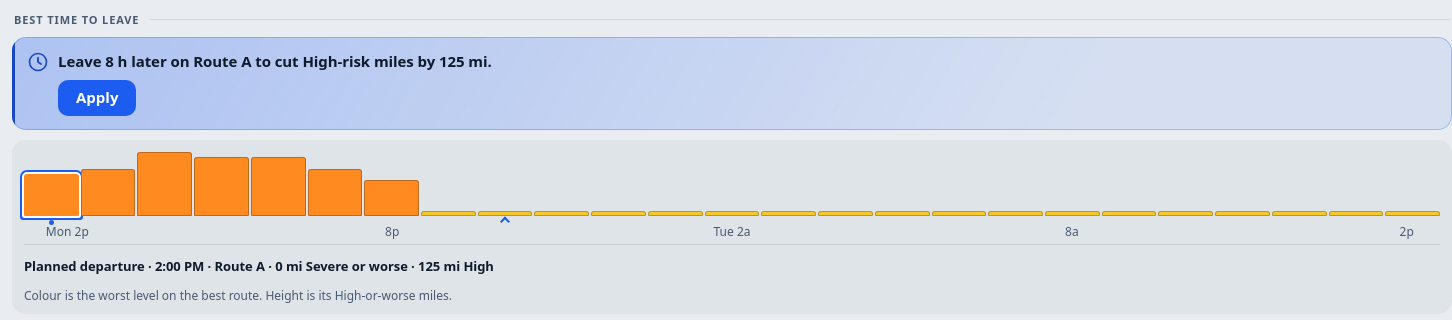
Test: DepartureStrip › scrubs the picked hour while a finger drags across the bars and keeps it on release
Press the mouse on the element named "Departure time, next 24 hours" at (732, 184), box [24, 152, 1440, 216]
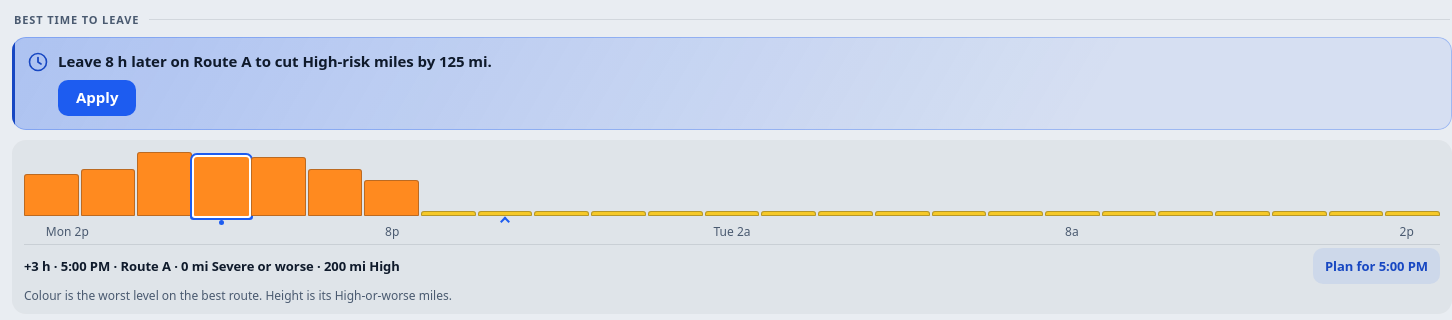
Result: the element with test id "departure-detail" shows "+3 h" at [24, 257, 400, 275]
Result: the button with test id "apply-picked" shows "Plan for" at [1313, 248, 1440, 284]
